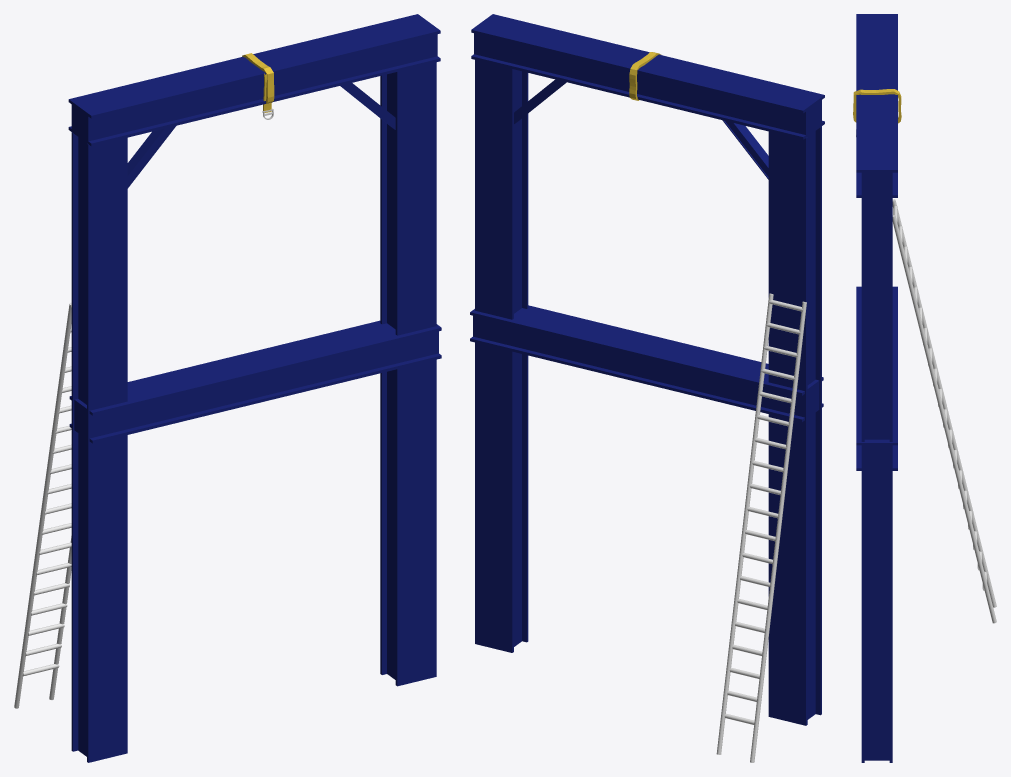
Rendered from Torre_escalera.fbx.
3 views of the same model, side by side, from view 1: azimuth 30°, elevation 25°; view 2: azimuth 150°, elevation 25°; view 3: azimuth 270°, elevation 25° (orthographic). The views are drawn at different scales.
Parts seen in each view (by area): view 1: Cube, Cylinder, nudo agarradera; view 2: Cube, Cylinder; view 3: Cube, Cylinder, nudo agarradera.
Boxes of the visible parts, bbox=[...] form: Cube: bbox=[68, 14, 441, 762]; Cylinder: bbox=[14, 302, 71, 708]; nudo agarradera: bbox=[242, 53, 274, 119]; Cube: bbox=[470, 14, 824, 725]; Cylinder: bbox=[716, 293, 806, 762]; Cube: bbox=[856, 14, 897, 762]; Cylinder: bbox=[892, 199, 996, 623]; nudo agarradera: bbox=[853, 89, 901, 136].
Size of the model in its own units: 1490 by 2642 by 576.
